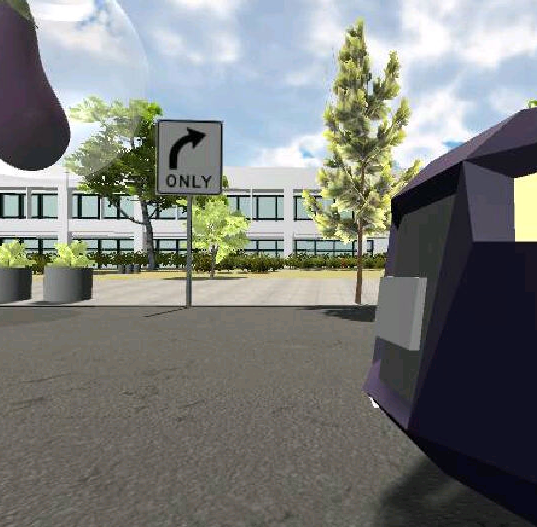arrow_right: (168, 126, 207, 170)
